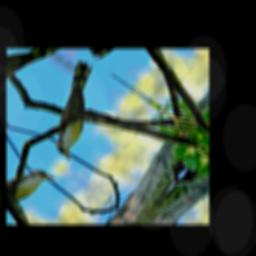Cuckoo: (23, 58, 129, 161)
